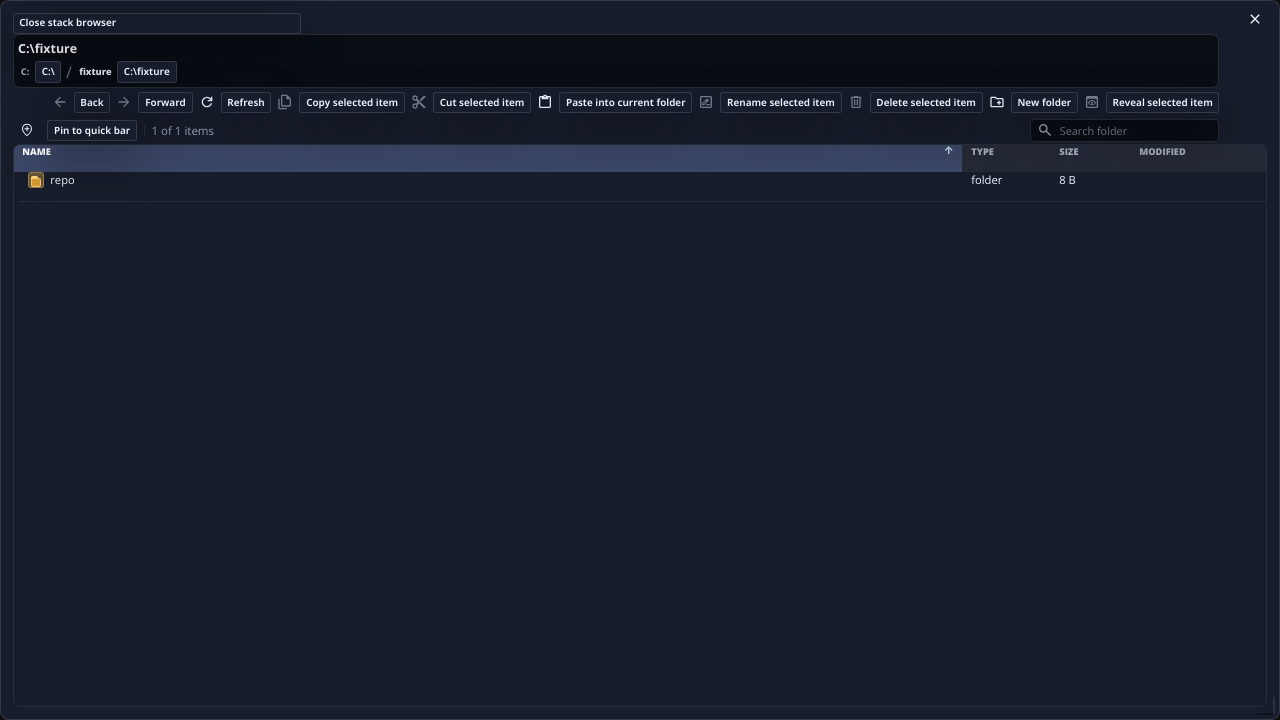
Scenario: Git confirmation Back cancels only confirmation, preserves branch menu, never deletes branch
Double-click the text "repo" at (62, 180), box [50,172,75,188]
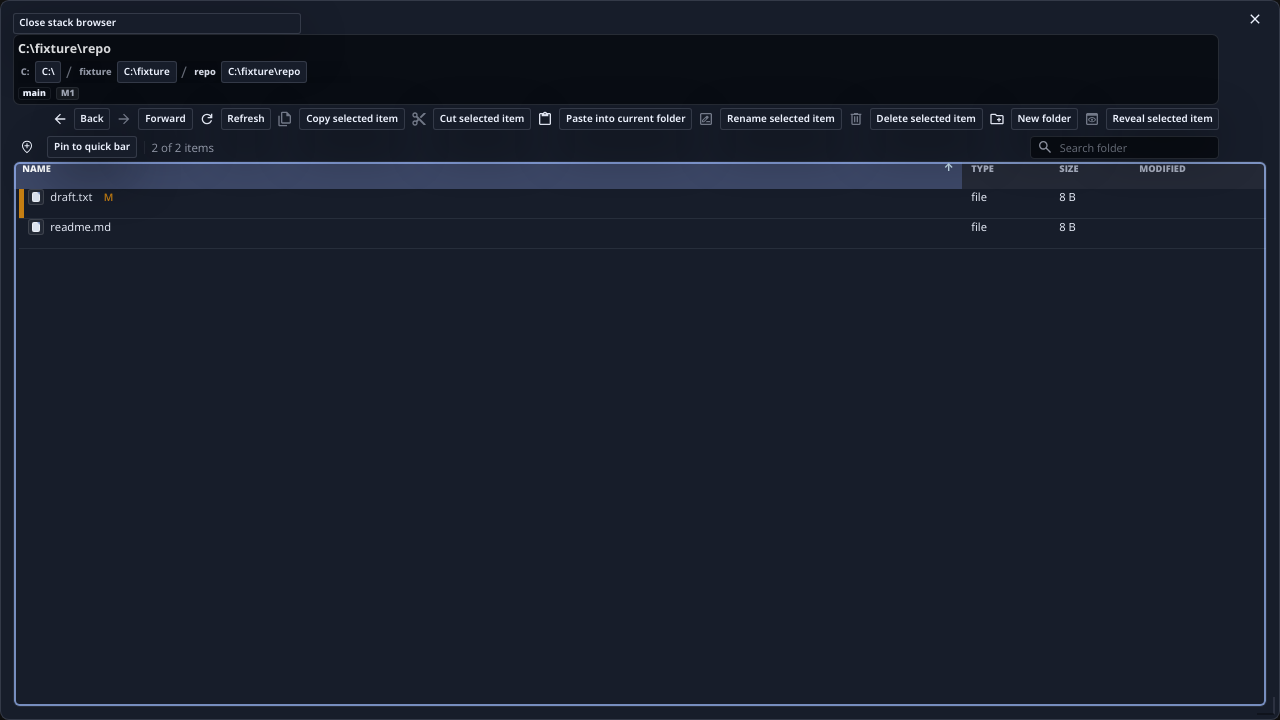
Result: the text "draft.txt" is shown at [50,189,92,204]
Click the button "main". click: (34, 93)
box: [18,86,51,100]
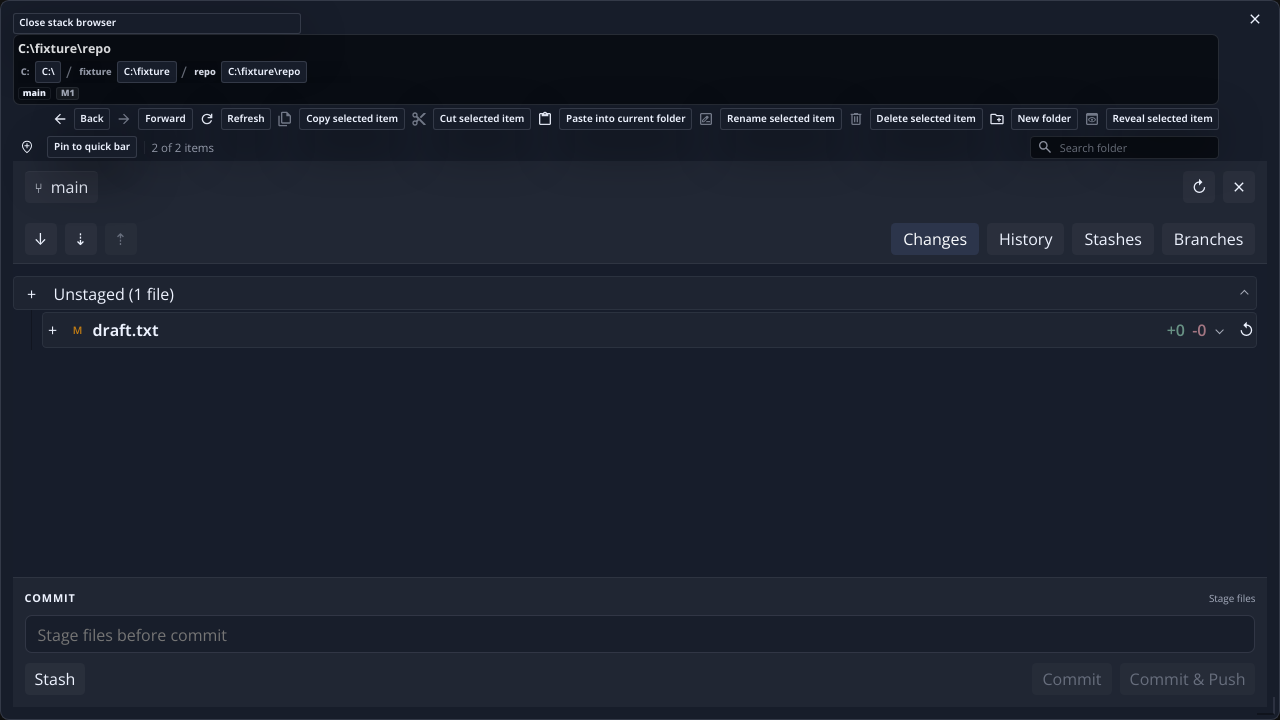
Result: the button with aria-label "Branch main" is shown
Click the button with aria-label "Branch main". click: (61, 187)
box: [24,171,98,203]
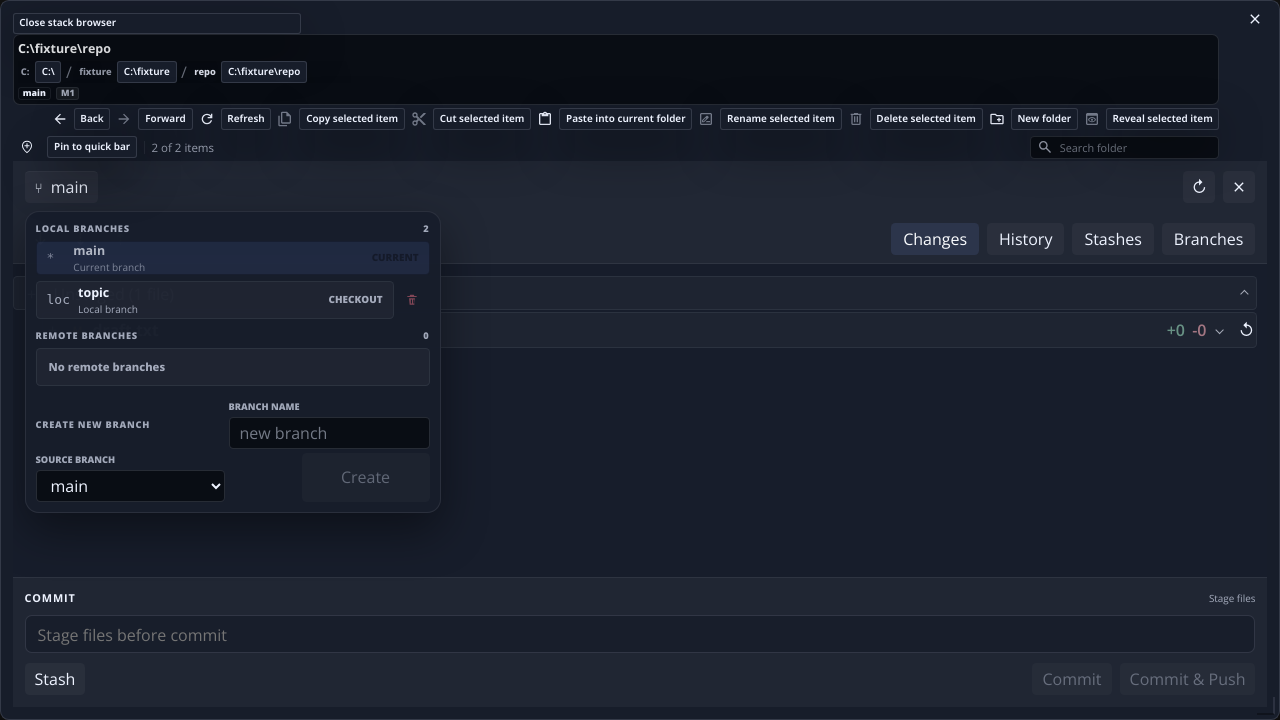
Click the button named "Delete local branch topic". click: (412, 300)
box: [396,284,426,316]
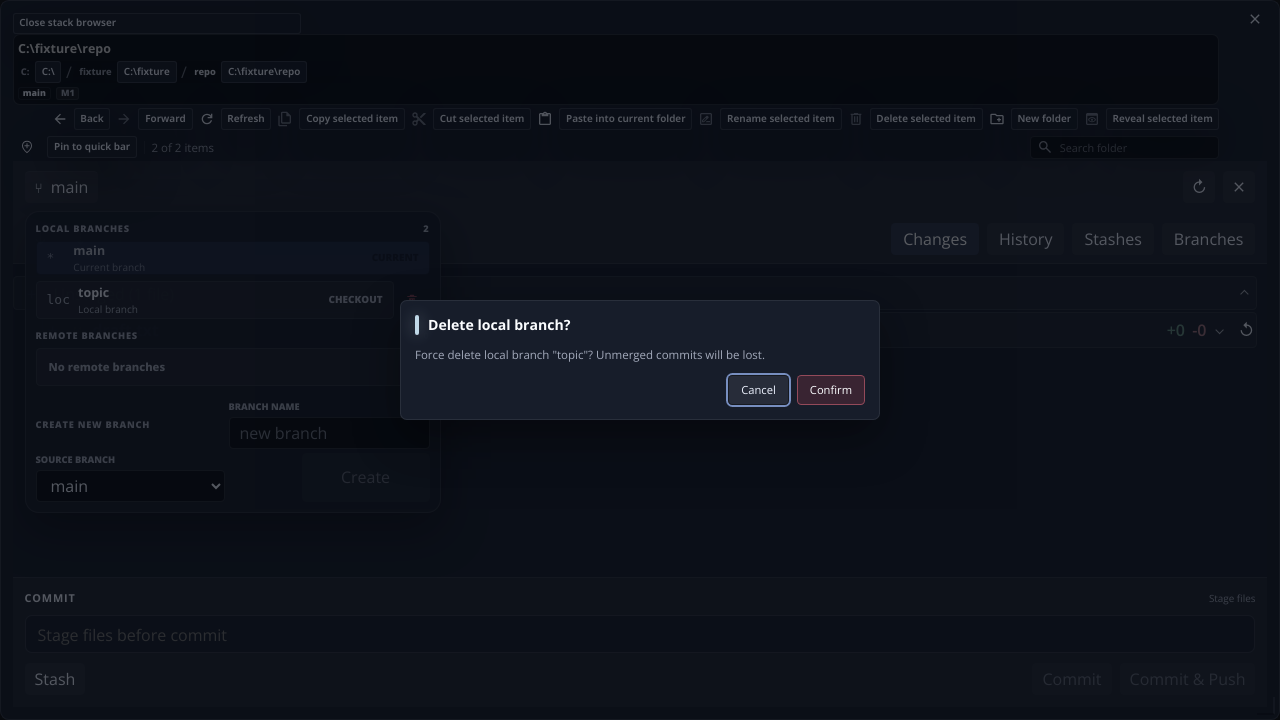
Press the mouse on the dialog at (640, 360), box [400,300,880,420]
Press the mouse on the dialog at (640, 360), box [400,300,880,420]
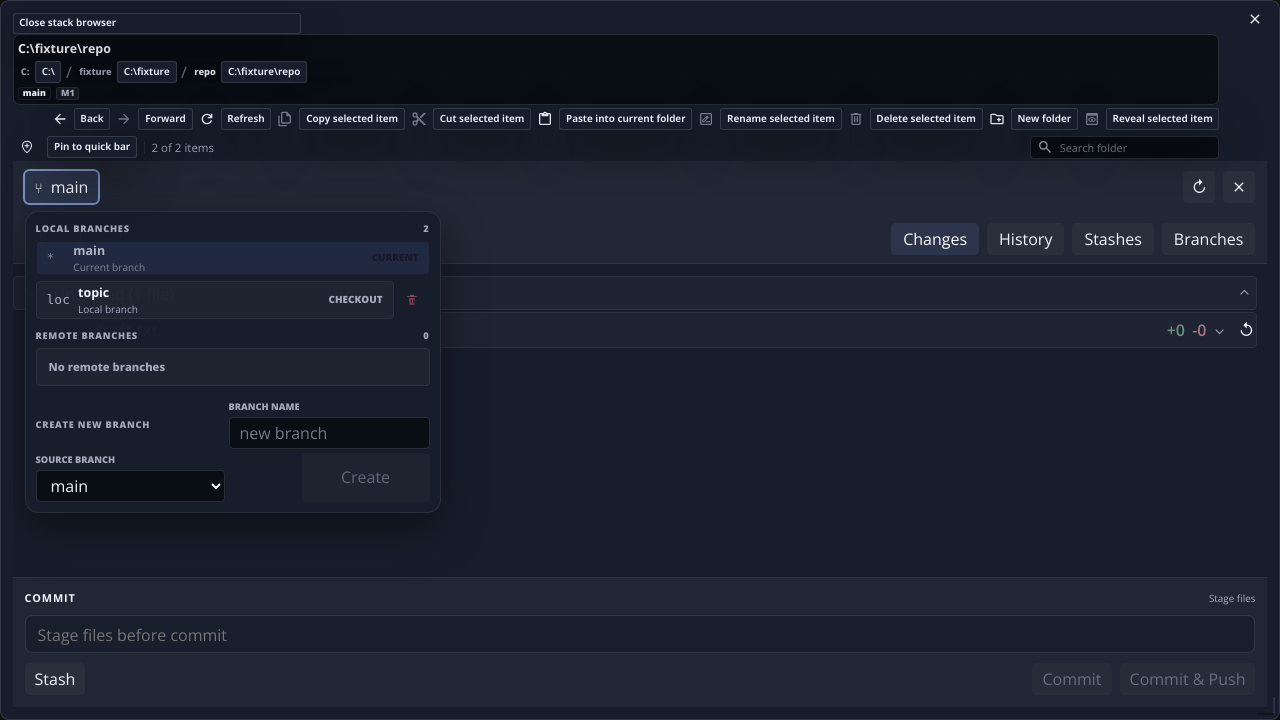
Result: the element named "Branch picker" is shown at [24,211,440,513]
Result: the element named "Git panel" is shown
Result: the dialog is gone
